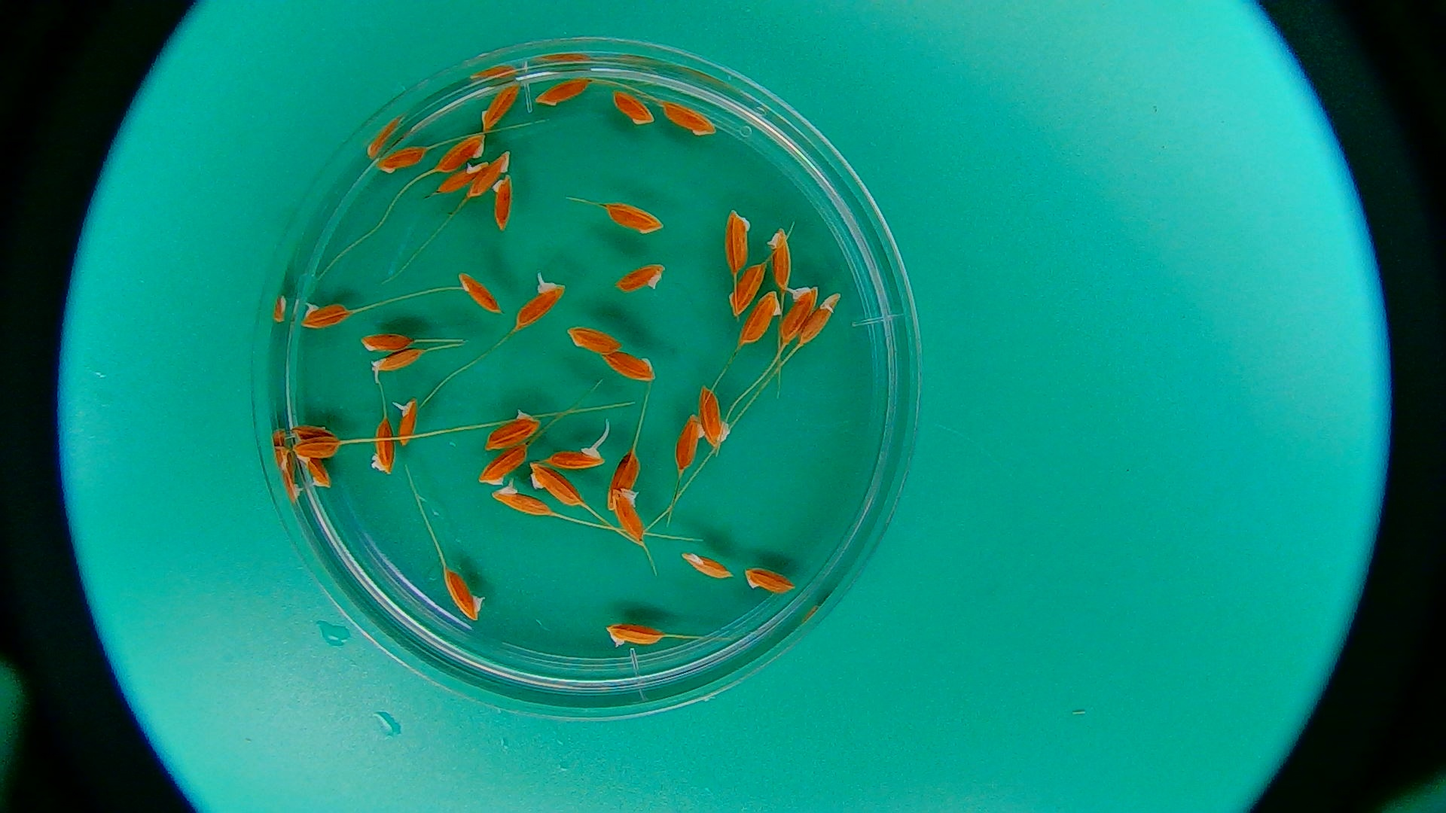no: (525, 458, 590, 510), (479, 410, 542, 455), (465, 148, 513, 200), (455, 272, 505, 321), (741, 288, 783, 346), (431, 130, 486, 174), (477, 443, 531, 486), (661, 97, 716, 137), (765, 226, 796, 296), (609, 446, 642, 510), (437, 158, 492, 196), (442, 569, 480, 623), (610, 490, 645, 547), (604, 202, 667, 233), (538, 72, 595, 106), (698, 392, 732, 446), (603, 620, 664, 650), (297, 449, 338, 493), (479, 83, 518, 129), (673, 416, 706, 470), (728, 263, 761, 317), (357, 325, 416, 355), (291, 435, 349, 465), (488, 175, 518, 232), (602, 353, 654, 385), (721, 211, 749, 270), (377, 145, 428, 176), (567, 327, 624, 354), (280, 416, 337, 443), (743, 567, 798, 594), (617, 265, 670, 293), (612, 93, 657, 125), (370, 419, 393, 476), (679, 553, 732, 577)
yes: (514, 279, 566, 330), (775, 282, 815, 344), (797, 294, 843, 346), (493, 483, 554, 518), (542, 440, 600, 474), (299, 299, 356, 331), (369, 348, 425, 373), (394, 399, 421, 448)
